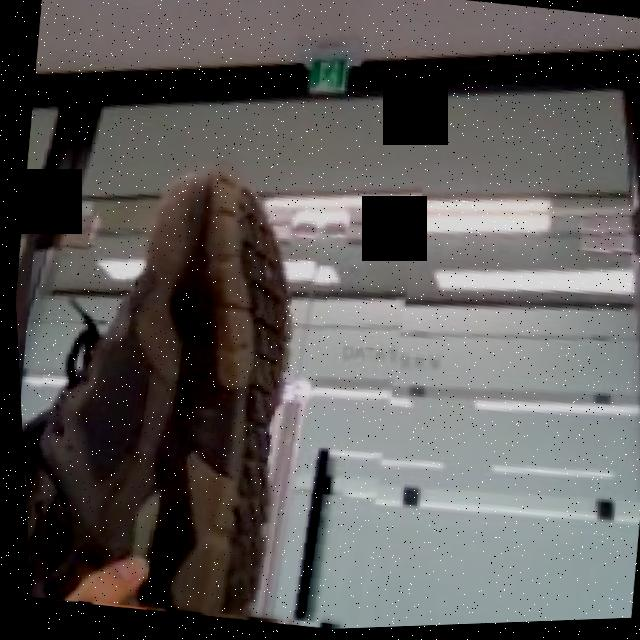shoe: (6, 128, 440, 640)
